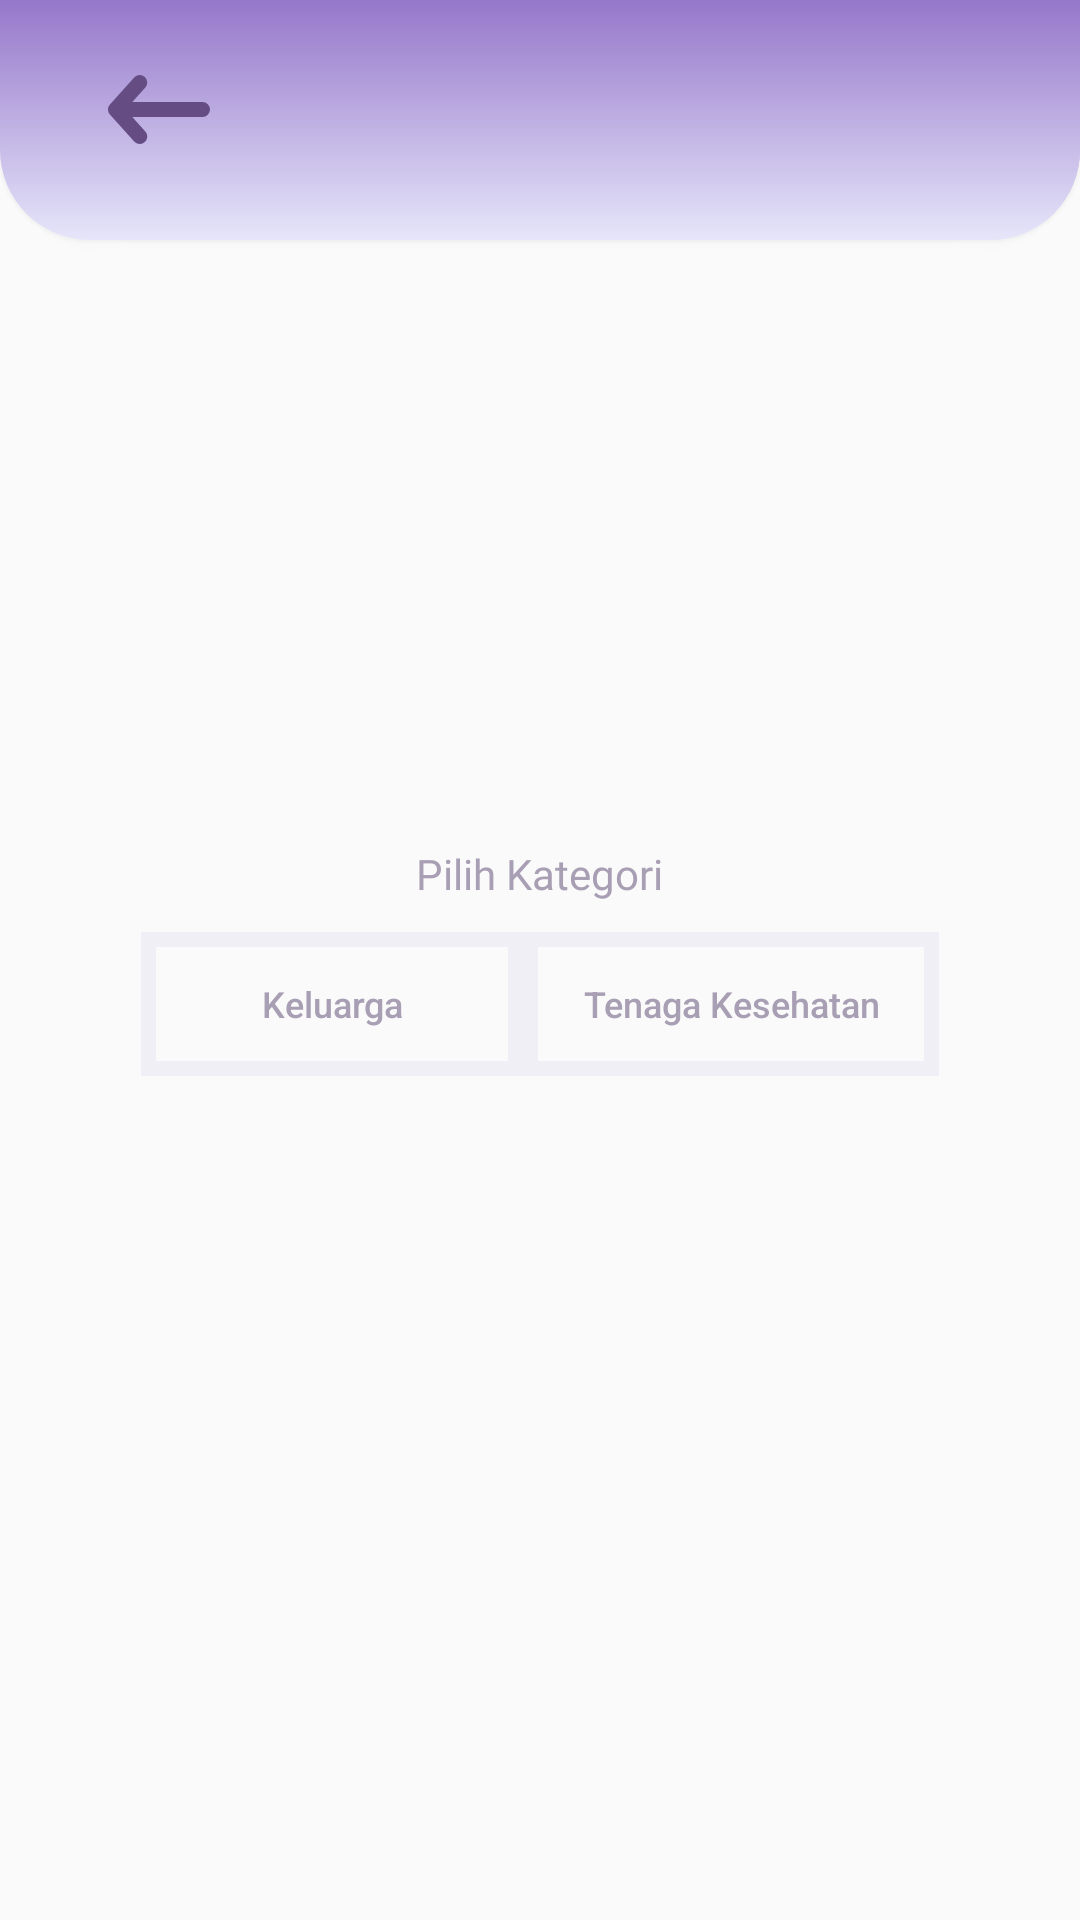

Where to tap for icons on this 1080 x 1920 app screen, as [x,y]:
Back Arrow: [159,109]
